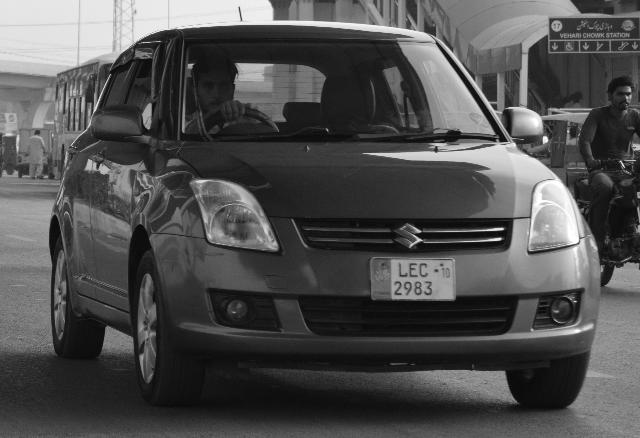Number: (393, 264, 443, 298)
